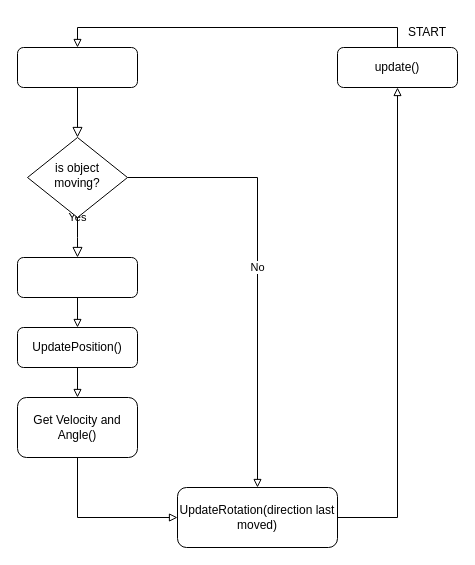
Image size: 475x565. Some labels were removed from this diagram. The centre of each missing label's shape, as x and y in pixels:
"Animate()" goes at (x=77, y=67).
"GetDisplacement" goes at (x=77, y=277).
